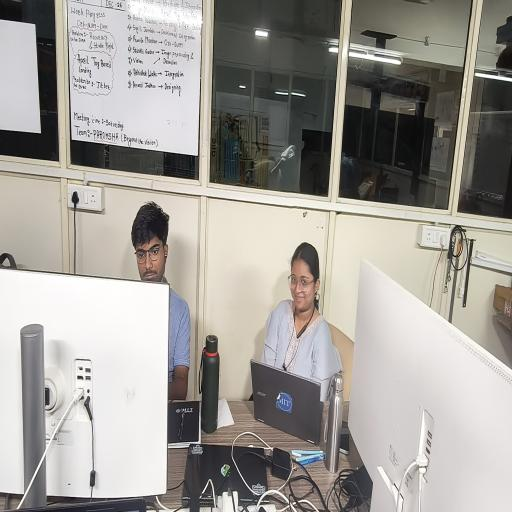survivor: (261, 242, 344, 402), (130, 202, 190, 402)
